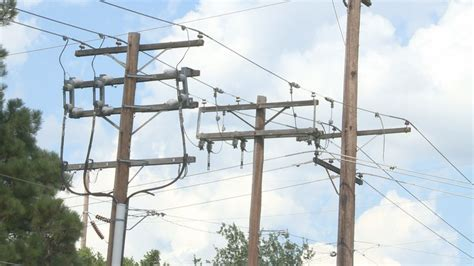pole: (55, 22, 209, 266), (193, 85, 333, 266), (314, 3, 404, 266)
